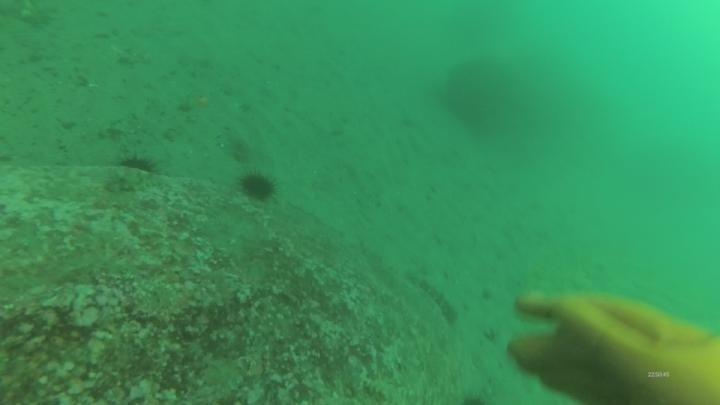echinus: (237, 168, 279, 203), (117, 151, 158, 177)
holothurian: (404, 266, 461, 326)
